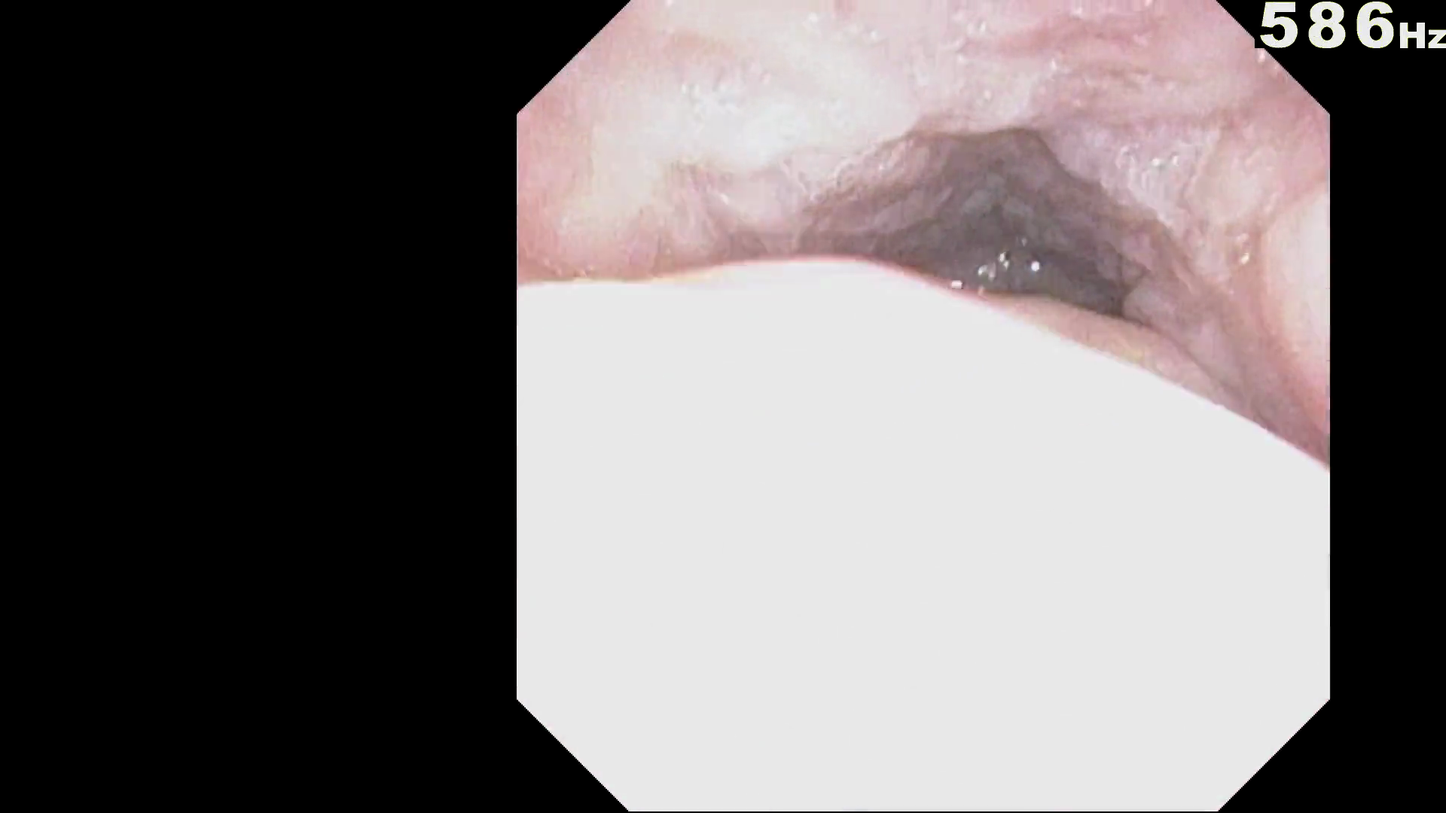epiglottis: (641, 265, 1293, 569)
